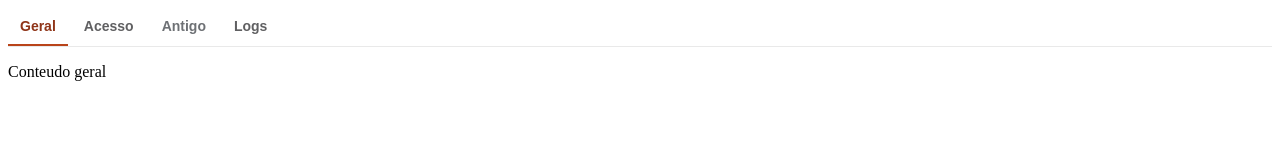
Test: Tabs › troca de painel ao clicar
Click the tab "Logs" at (251, 27), box [222,8,280,46]
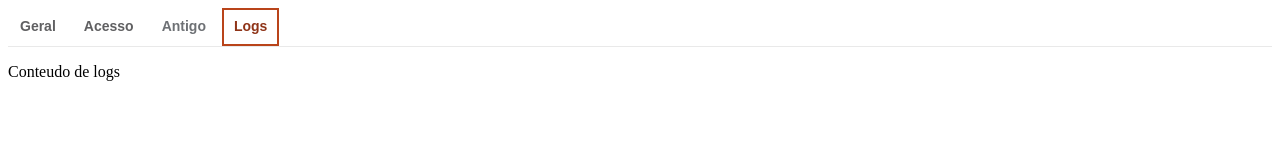
Result: the panel reads "Conteudo de logs" at [8,63,120,80]
